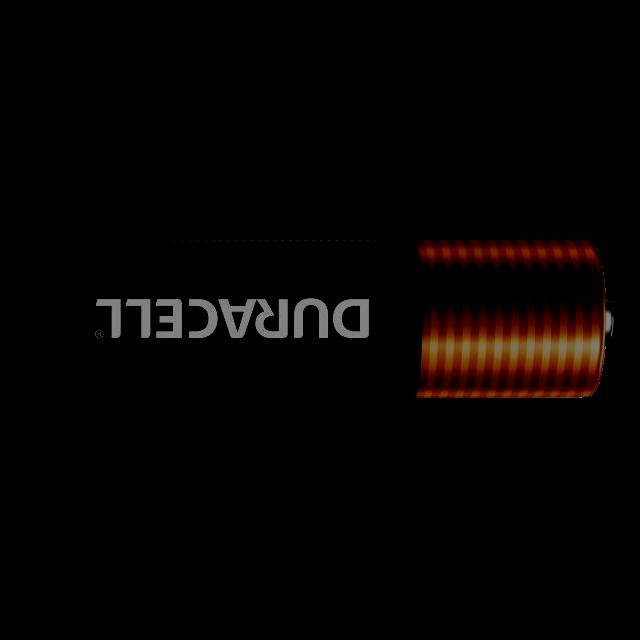AA: (22, 218, 626, 414)
